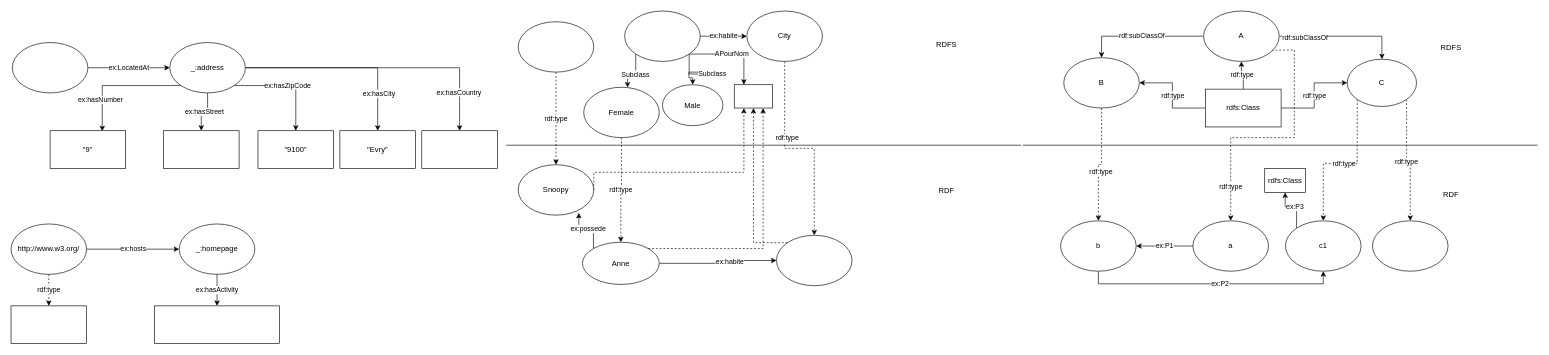
This 1549x355 diagram has some shape labels left out. Here are the shapes that lost their labels. From the top down, the box of each, then its label:
(518, 21, 594, 72): Animal
(624, 10, 700, 61): Person
(12, 42, 88, 93): urn:TCSP
(734, 84, 773, 108): xsd:string
(163, 130, 239, 169): "Charles Fourier"
(421, 130, 497, 169): "France
(776, 235, 852, 286): Paris
(1372, 220, 1448, 271): c2
(10, 305, 87, 344): "Website"
(154, 305, 279, 344): ActivityOfW3CSemanticWeb
